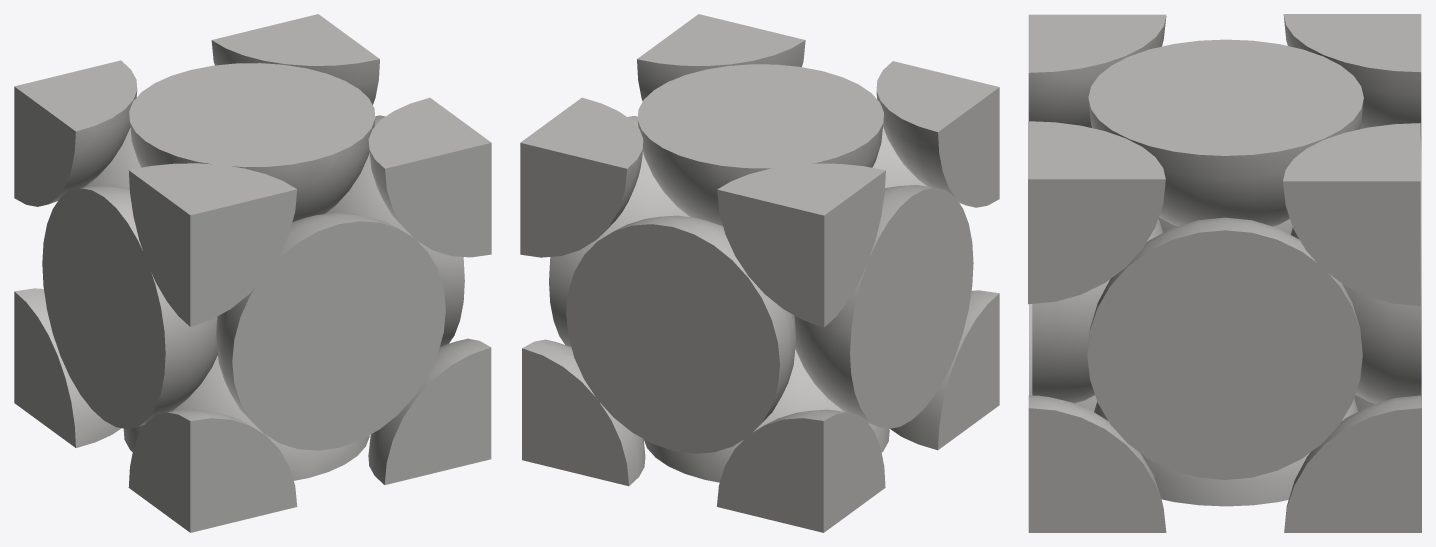
3 renders of one model, left to right at view 1: azimuth 30°, elevation 25°; view 2: azimuth 150°, elevation 25°; view 3: azimuth 270°, elevation 25°, orthographic. The views are drawn at different scales.
Visible parts, largest first — view 1: 对象125; view 2: 对象125; view 3: 对象125.
Part boxes in pixels (box(x1,y1,x2,y2)): 对象125: box(14, 14, 491, 532); 对象125: box(520, 14, 999, 532); 对象125: box(1028, 14, 1421, 532).
Bounding box in the file's own units: 56.89 × 56.9 × 57.16.
